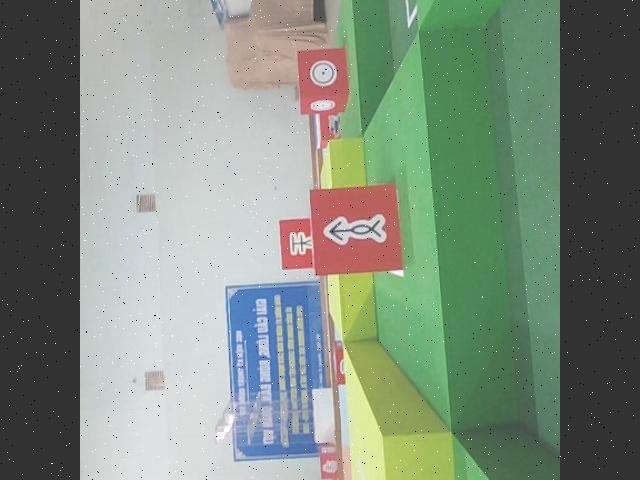R2 Real: (305, 182, 407, 276), (295, 44, 350, 119)
